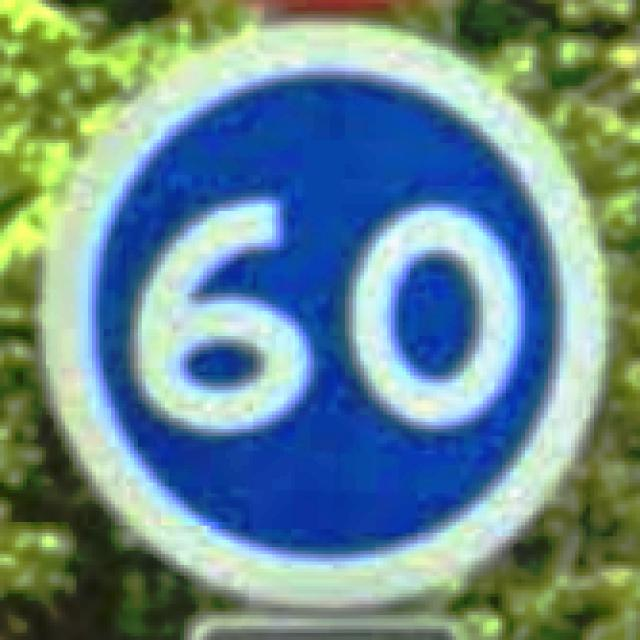min60: (31, 14, 613, 612)
